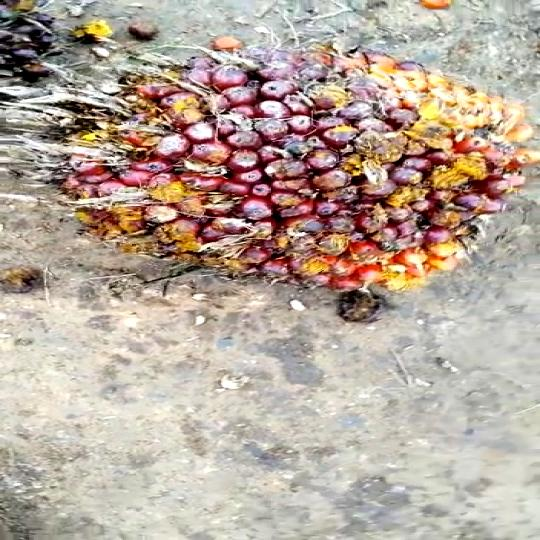masak: (0, 36, 540, 316)
